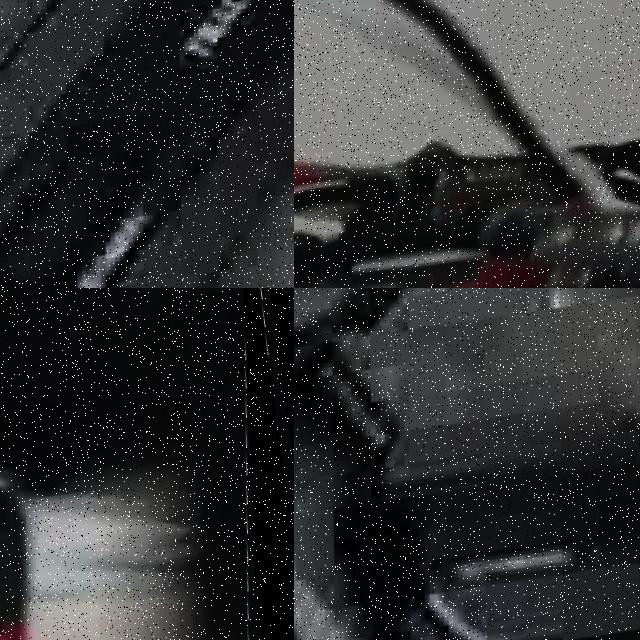drone: (294, 288, 640, 640), (0, 288, 294, 640), (294, 0, 640, 288), (0, 0, 294, 288)
